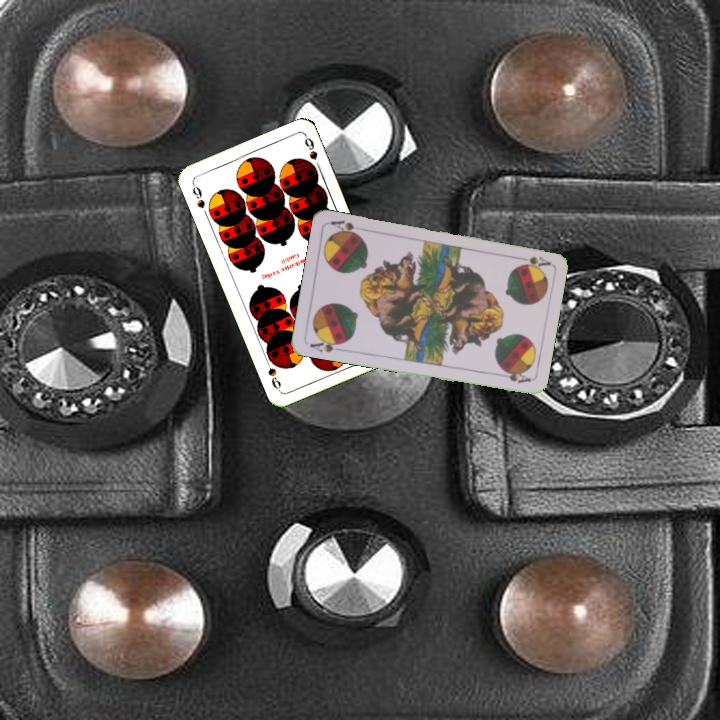S9: (188, 179, 208, 211)
SA: (306, 334, 347, 355), (512, 252, 552, 270)
